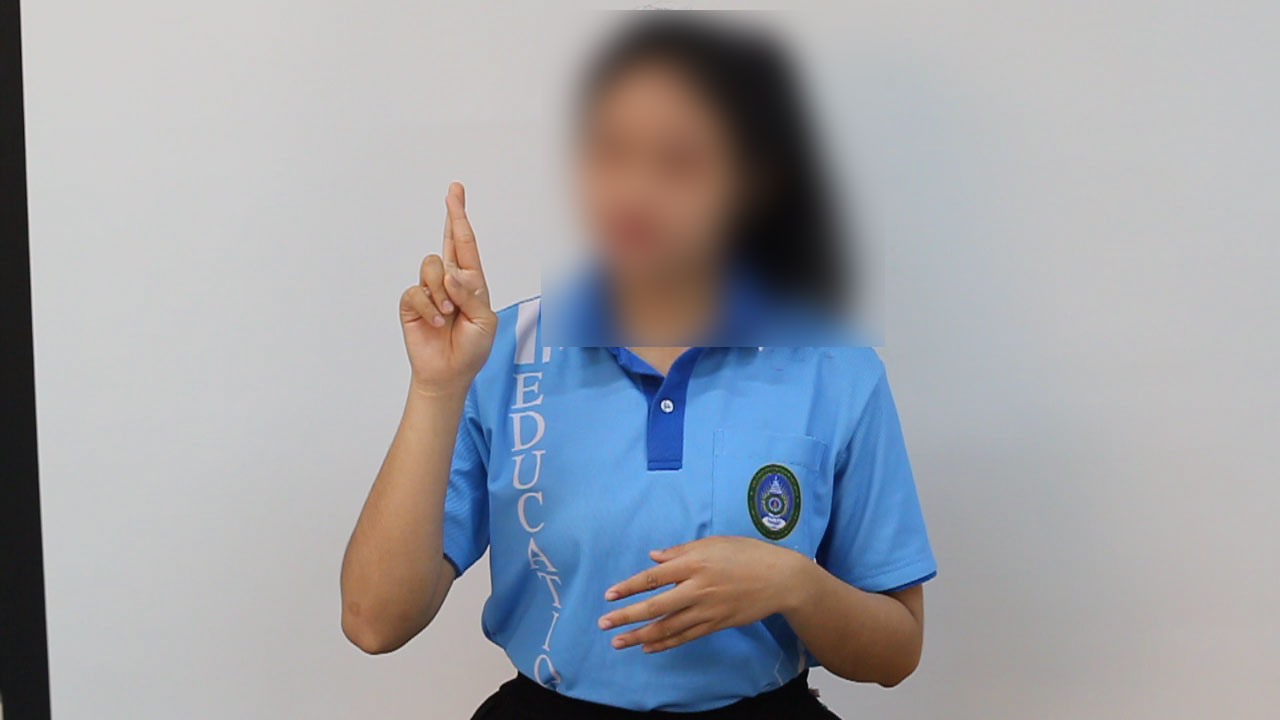rao: (386, 173, 508, 413)
